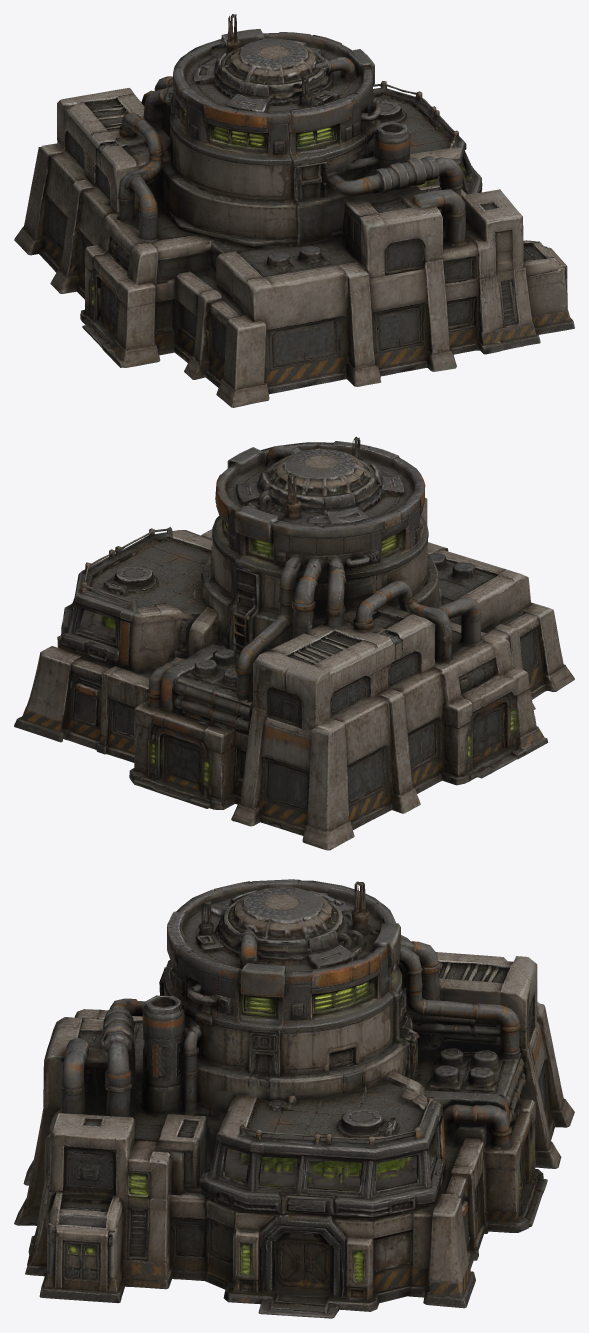
File: tripo_convert_0bf51c8e-2ee2-4178-9fbc-3b568b84bcc5.fbx
3 renders of one model, top to bottom at view 1: azimuth 30°, elevation 25°; view 2: azimuth 150°, elevation 25°; view 3: azimuth 270°, elevation 25°, orthographic. The views are drawn at different scales.
Visible parts, largest first — view 1: tripo_node_0bf51c8e; view 2: tripo_node_0bf51c8e; view 3: tripo_node_0bf51c8e.
Part boxes in pixels (x1,y1,x2,y2): tripo_node_0bf51c8e: (14, 14, 574, 407); tripo_node_0bf51c8e: (14, 436, 574, 850); tripo_node_0bf51c8e: (14, 879, 574, 1318).
Size of the model in its own units: 0.9764 by 0.5815 by 0.9805.
Materials: 1 (1 with a texture image).
